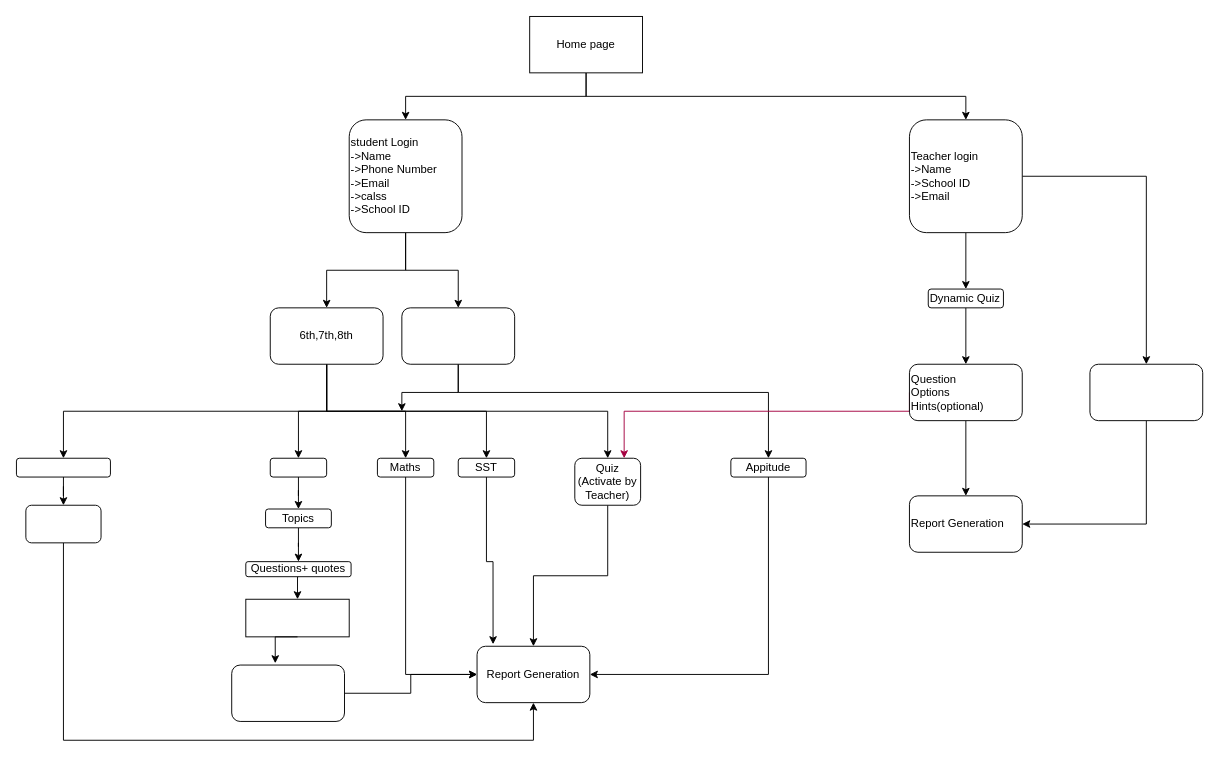
This 1219x764 diagram has some shape labels left out. Each missing label, with the centre of its shape:
"3-Logins (Parallel Quiz)" goes at point 63,523.
"Group Study" goes at point 63,467.
"NMMS" goes at point 458,335.
"question options Hints" goes at point 297,617.
"Science" goes at point 298,467.
"Subject+ school ID(Basic Test)" goes at point 1146,392.
"Video Graphics Audio Text Based hints" goes at point 288,692.
